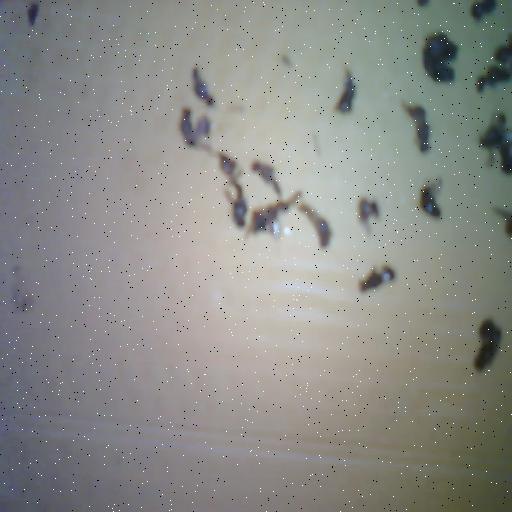Insects: (246, 192, 302, 238), (479, 112, 511, 174), (423, 33, 458, 81), (298, 202, 332, 247), (402, 103, 430, 152), (475, 319, 501, 371), (180, 108, 211, 151), (252, 161, 281, 196), (226, 180, 247, 226), (477, 65, 511, 92), (360, 266, 395, 292), (420, 178, 442, 218), (335, 70, 355, 113), (192, 68, 214, 105), (359, 198, 379, 232), (217, 152, 241, 180), (491, 206, 511, 236), (471, 0, 495, 21), (27, 2, 39, 26), (281, 54, 292, 67)
dust: (12, 266, 33, 312)
